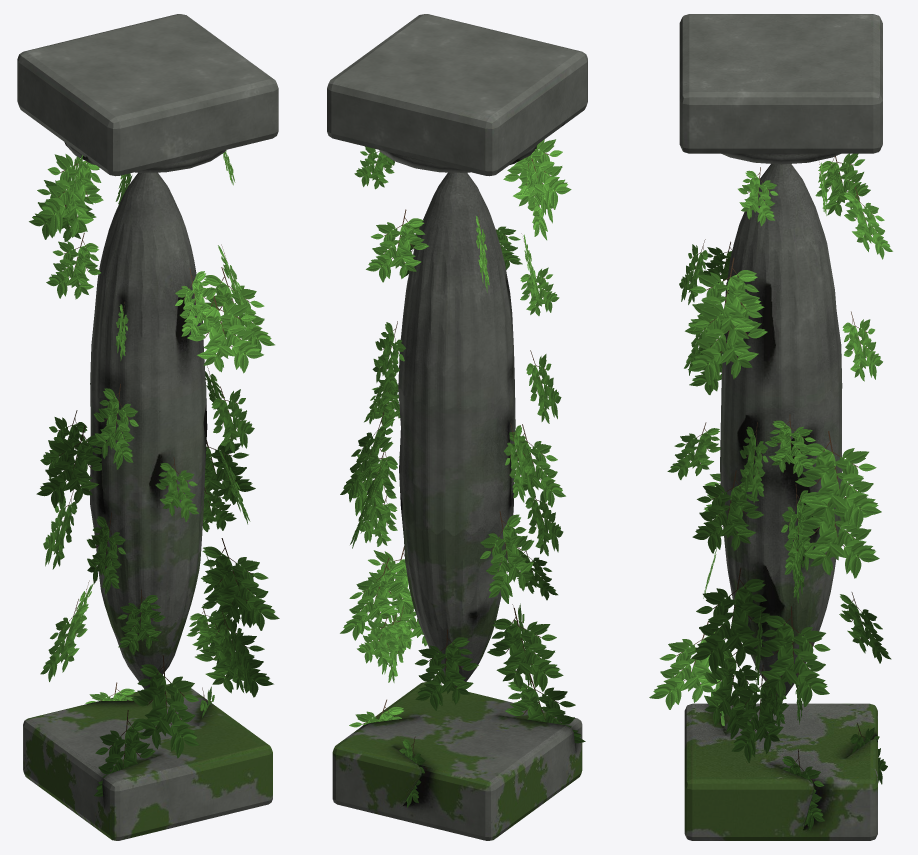
File: dg_coluna_musgo.glb
The picture shows the model from 3 angles, left to right: view 1: azimuth 30°, elevation 25°; view 2: azimuth 150°, elevation 25°; view 3: azimuth 270°, elevation 25°; orthographic projection. The views are drawn at different scales.
Parts seen in each view (by area): view 1: dg_coluna_musgo_tronco, cipo; view 2: dg_coluna_musgo_tronco, cipo; view 3: dg_coluna_musgo_tronco, cipo.
Part boxes in pixels (left/top/right/bottom): dg_coluna_musgo_tronco: left=17, top=14, right=278, bottom=840; cipo: left=29, top=150, right=279, bottom=796; dg_coluna_musgo_tronco: left=327, top=14, right=587, bottom=840; cipo: left=340, top=139, right=585, bottom=807; dg_coluna_musgo_tronco: left=679, top=14, right=882, bottom=840; cipo: left=649, top=153, right=892, bottom=830.
Size of the model in its own units: 1.53 by 4.27 by 1.41.
2 materials, 2 textured.
